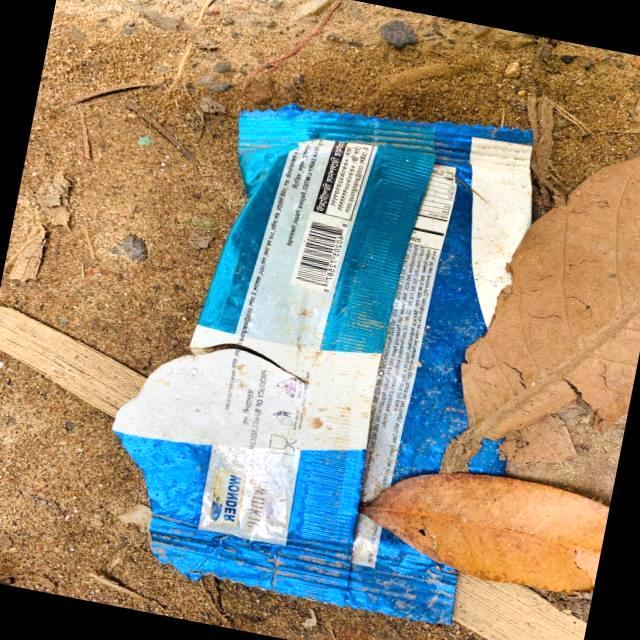packet: (201, 132, 469, 593)
